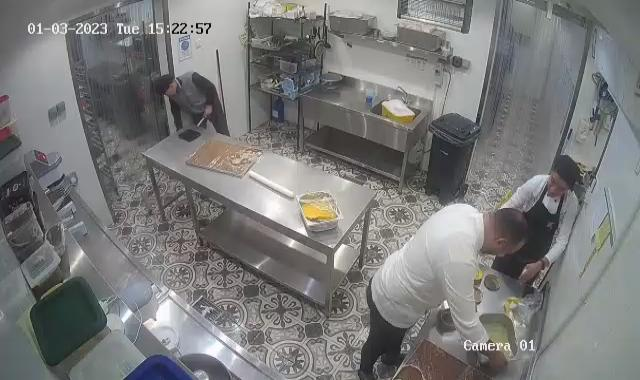no_hairnet: (491, 205, 531, 257), (548, 155, 583, 192), (148, 73, 178, 97)
